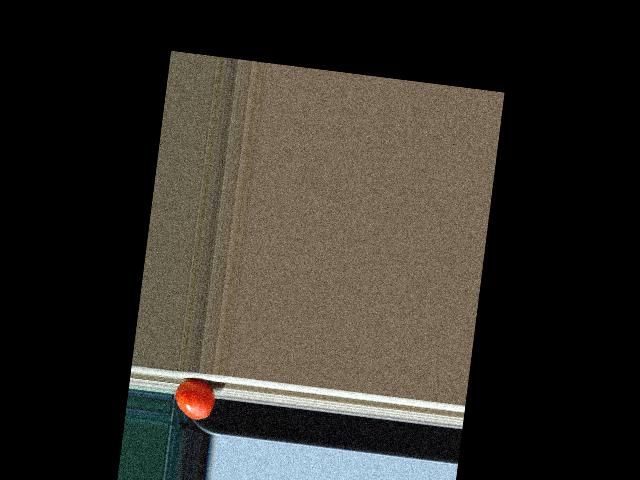tomato: (173, 378, 217, 421)
